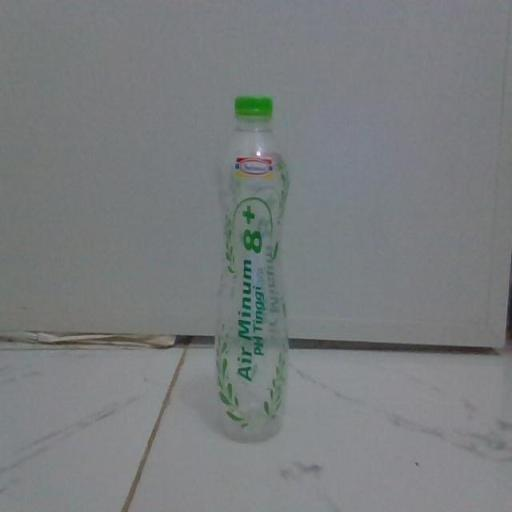bottle: (194, 59, 313, 465)
